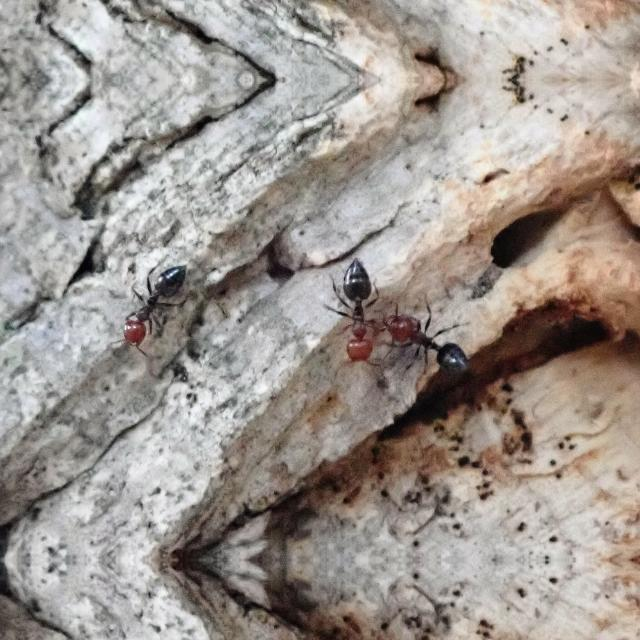Crematogaster: (386, 300, 486, 370), (326, 262, 386, 368), (122, 260, 186, 350)
